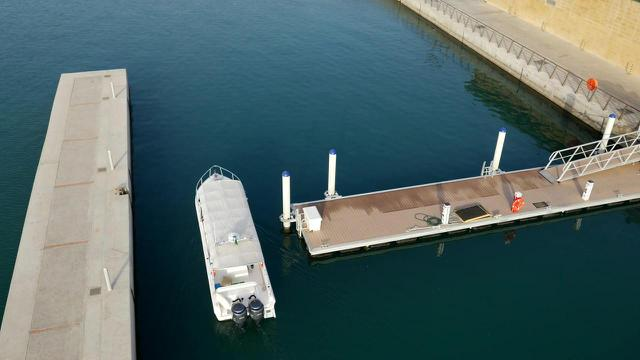boat1: (196, 164, 273, 323)
